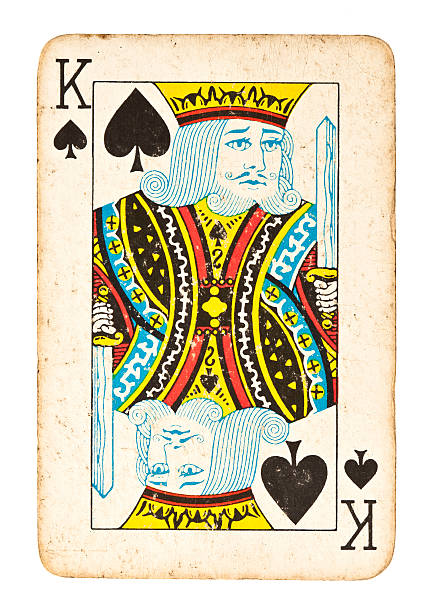king of spades: (35, 37, 394, 583)
